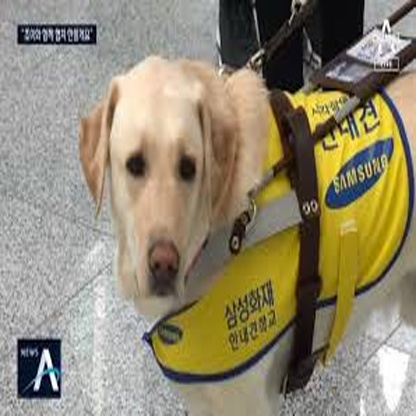guide-dog: (84, 46, 416, 416)
